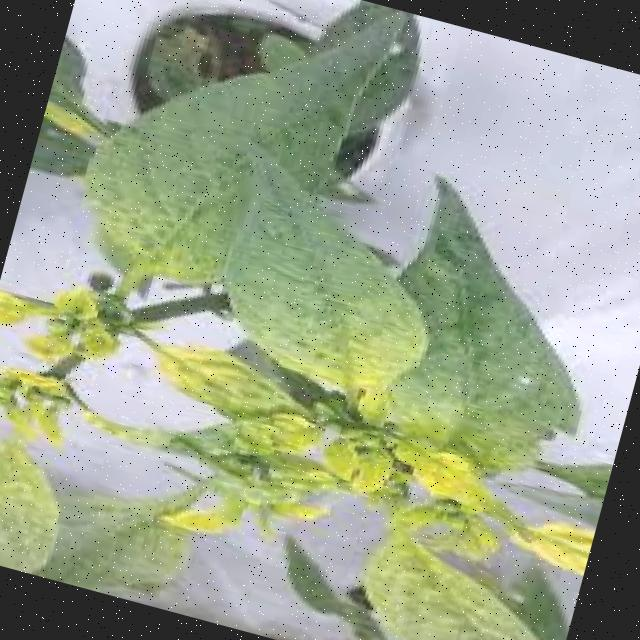yellow: (0, 181, 640, 640)
